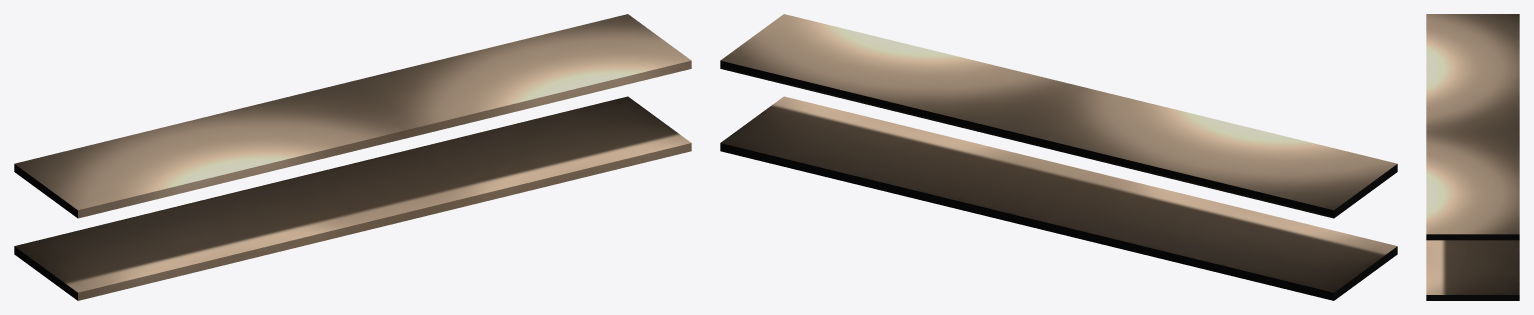
3 renders of one model, left to right at view 1: azimuth 30°, elevation 25°; view 2: azimuth 150°, elevation 25°; view 3: azimuth 270°, elevation 25°, orthographic. The views are drawn at different scales.
Parts seen in each view (by area): view 1: Cube.024; view 2: Cube.024; view 3: Cube.024.
Boxes of the visible parts, <box> form: Cube.024: <box>14,14,691,300</box>; Cube.024: <box>720,14,1397,300</box>; Cube.024: <box>1426,14,1519,300</box>.
Bounding box in the file's own units: 3.9 × 0.55 × 0.7.
2 materials, 2 textured.
